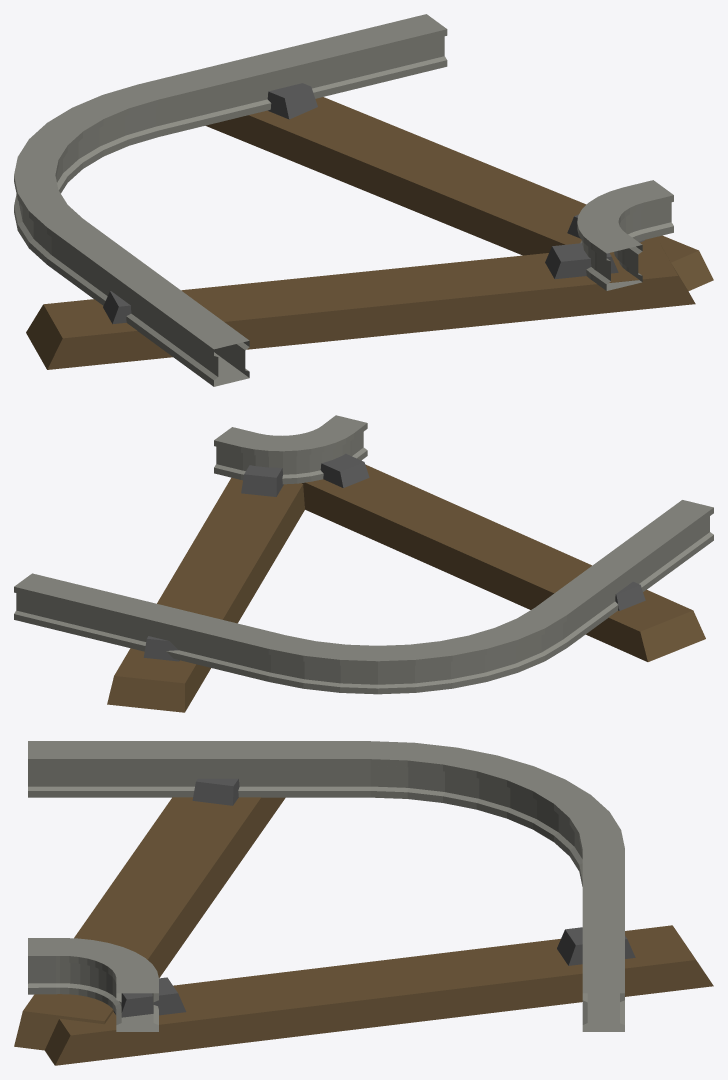
3 views of the same model, one above another, from view 1: azimuth 30°, elevation 25°; view 2: azimuth 150°, elevation 25°; view 3: azimuth 270°, elevation 25° (orthographic). The views are drawn at different scales.
Parts seen in each view (by area): view 1: Modular_Rail3; view 2: Modular_Rail3; view 3: Modular_Rail3.
Boxes of the visible parts, box(x1,y1,x2,y2) form: Modular_Rail3: box(14, 14, 713, 386); Modular_Rail3: box(14, 415, 713, 712); Modular_Rail3: box(14, 741, 713, 1065).
Bounding box in the file's own units: 2.05 × 0.217 × 2.04.
Materials: 1 (1 with a texture image).
